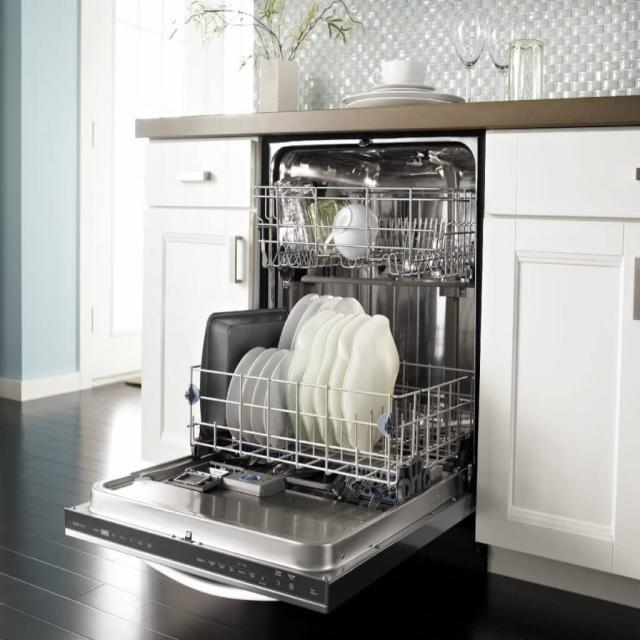dishwasher: (55, 104, 496, 612)
